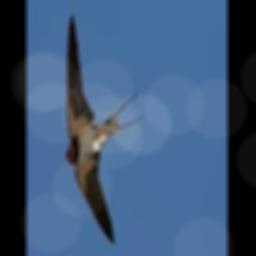Swallow: (64, 14, 143, 244)
